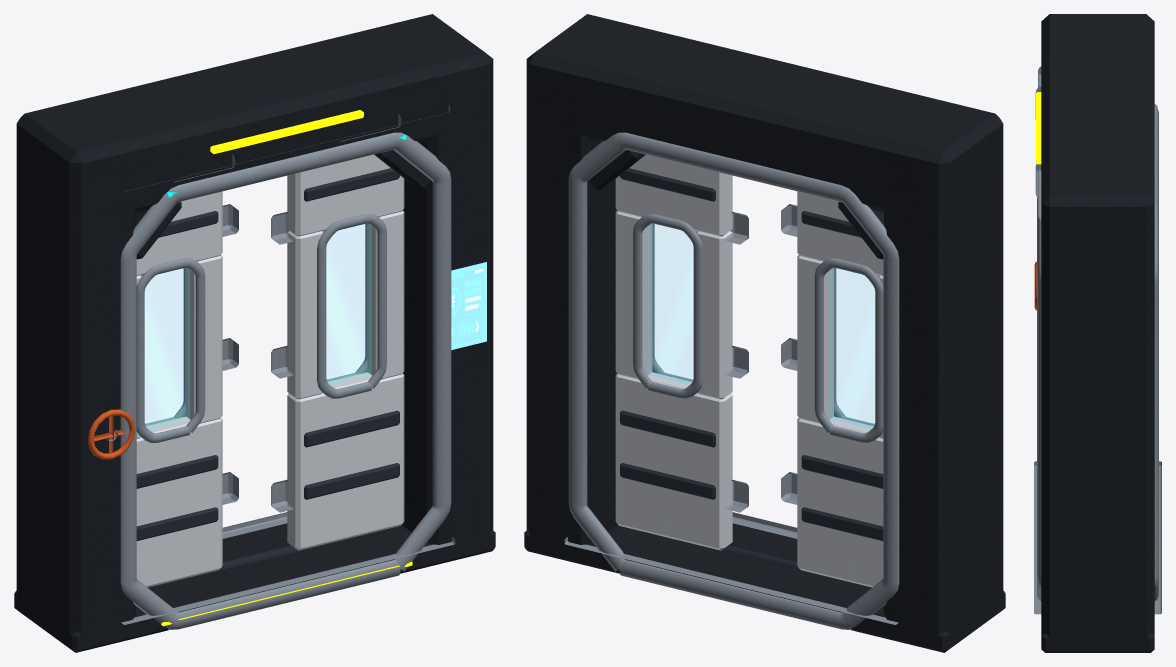
Rendered from corridor_door_r1_01.glb.
The picture shows the model from 3 angles, left to right: view 1: azimuth 30°, elevation 25°; view 2: azimuth 150°, elevation 25°; view 3: azimuth 270°, elevation 25°; orthographic projection. The views are drawn at different scales.
Visible parts, largest first — view 1: Corridor01_OctagonalGunmetalCoaming, Corridor01_WhiteBlastDoorLeaves, Corridor01_MachinedGantryAndDogTeeth, Corridor01_TranslucentDoorViewports, Corridor01_CarbonSlateDoorArmorRibs, Corridor01_RightPierOLEDStatus, Corridor01_AmberThresholdAndBeaconLED, Corridor01_SignalOrangeOverrideWheel, Corridor01_CharcoalBladderSeal; view 2: Corridor01_OctagonalGunmetalCoaming, Corridor01_WhiteBlastDoorLeaves, Corridor01_MachinedGantryAndDogTeeth, Corridor01_TranslucentDoorViewports, Corridor01_CarbonSlateDoorArmorRibs, Corridor01_CharcoalBladderSeal; view 3: Corridor01_OctagonalGunmetalCoaming, Corridor01_MachinedGantryAndDogTeeth, Corridor01_AmberThresholdAndBeaconLED.
Part boxes in pixels (<box>): Corridor01_OctagonalGunmetalCoaming: <box>14,14,495,652</box>; Corridor01_WhiteBlastDoorLeaves: <box>136,154,404,587</box>; Corridor01_MachinedGantryAndDogTeeth: <box>106,104,455,629</box>; Corridor01_TranslucentDoorViewports: <box>145,224,370,428</box>; Corridor01_CarbonSlateDoorArmorRibs: <box>136,168,399,540</box>; Corridor01_RightPierOLEDStatus: <box>451,262,486,349</box>; Corridor01_AmberThresholdAndBeaconLED: <box>161,110,412,626</box>; Corridor01_SignalOrangeOverrideWheel: <box>87,409,135,459</box>; Corridor01_CharcoalBladderSeal: <box>148,531,379,587</box>; Corridor01_OctagonalGunmetalCoaming: <box>524,14,1005,652</box>; Corridor01_WhiteBlastDoorLeaves: <box>615,154,883,587</box>; Corridor01_MachinedGantryAndDogTeeth: <box>564,132,899,629</box>; Corridor01_TranslucentDoorViewports: <box>649,224,874,428</box>; Corridor01_CarbonSlateDoorArmorRibs: <box>620,168,883,540</box>; Corridor01_CharcoalBladderSeal: <box>640,531,871,587</box>; Corridor01_OctagonalGunmetalCoaming: <box>1041,14,1154,652</box>; Corridor01_MachinedGantryAndDogTeeth: <box>1034,66,1161,614</box>; Corridor01_AmberThresholdAndBeaconLED: <box>1036,92,1041,164</box>.
Size of the model in its own units: 2.45 by 2.75 by 0.7.
Materials: 10 (10 with a texture image).
